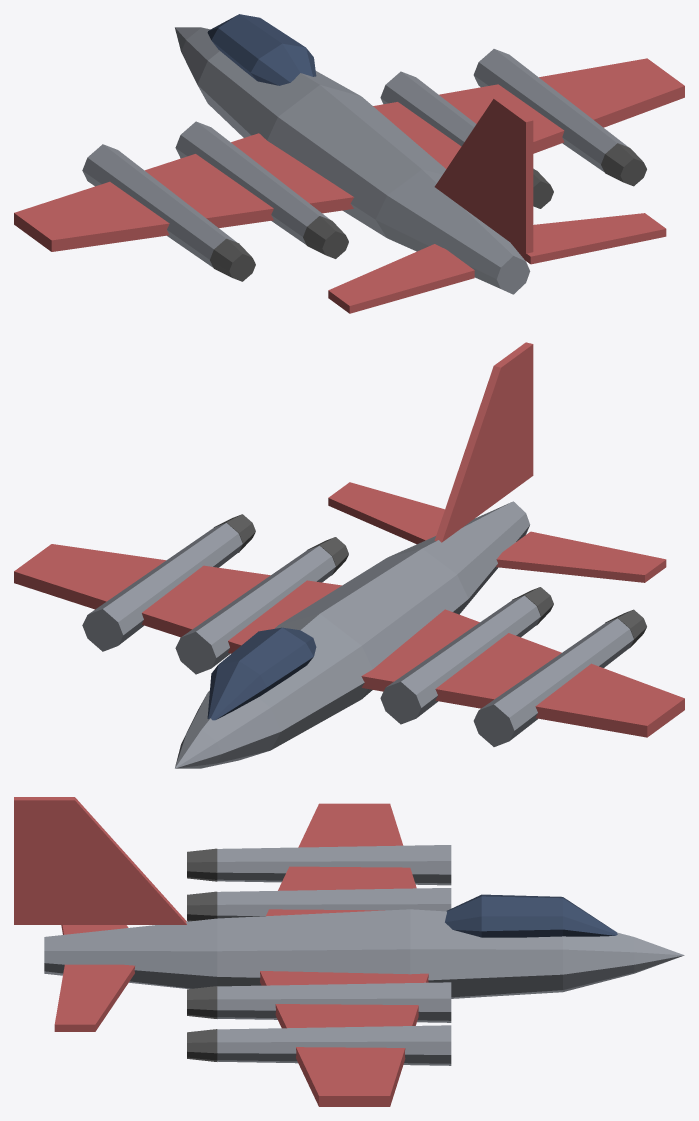
Rendered from enemy_bombowiec.glb.
3 views of the same model, one above another, from view 1: azimuth 30°, elevation 25°; view 2: azimuth 150°, elevation 25°; view 3: azimuth 270°, elevation 25° (orthographic). The views are drawn at different scales.
Parts seen in each view (by area): view 1: E3_Fuselage, E3_Wings, E3_Nacelles, E3_TailFin, E3_Tailplanes, E3_Cockpit, E3_Exhausts; view 2: E3_Fuselage, E3_Wings, E3_Nacelles, E3_TailFin, E3_Tailplanes, E3_Cockpit, E3_Exhausts; view 3: E3_Fuselage, E3_Nacelles, E3_Wings, E3_TailFin, E3_Cockpit, E3_Tailplanes, E3_Exhausts.
Part boxes in pixels (<box>): E3_Fuselage: <box>175,27,530,294</box>; E3_Wings: <box>14,58,684,251</box>; E3_Nacelles: <box>82,49,627,267</box>; E3_TailFin: <box>434,97,533,253</box>; E3_Tailplanes: <box>328,213,666,313</box>; E3_Cockpit: <box>207,14,316,85</box>; E3_Exhausts: <box>210,143,646,281</box>; E3_Fuselage: <box>175,501,530,768</box>; E3_Wings: <box>14,544,684,737</box>; E3_Nacelles: <box>82,523,633,746</box>; E3_TailFin: <box>434,342,533,542</box>; E3_Tailplanes: <box>328,482,666,582</box>; E3_Cockpit: <box>207,627,316,720</box>; E3_Exhausts: <box>214,514,646,647</box>; E3_Fuselage: <box>44,909,684,998</box>; E3_Nacelles: <box>217,845,451,1065</box>; E3_Wings: <box>260,803,428,1106</box>; E3_TailFin: <box>14,797,186,924</box>; E3_Cockpit: <box>445,894,617,937</box>; E3_Tailplanes: <box>54,925,134,1031</box>; E3_Exhausts: <box>187,848,217,1061</box>.
Bounding box in the file's own units: 6.8 × 2.2 × 6.6.
